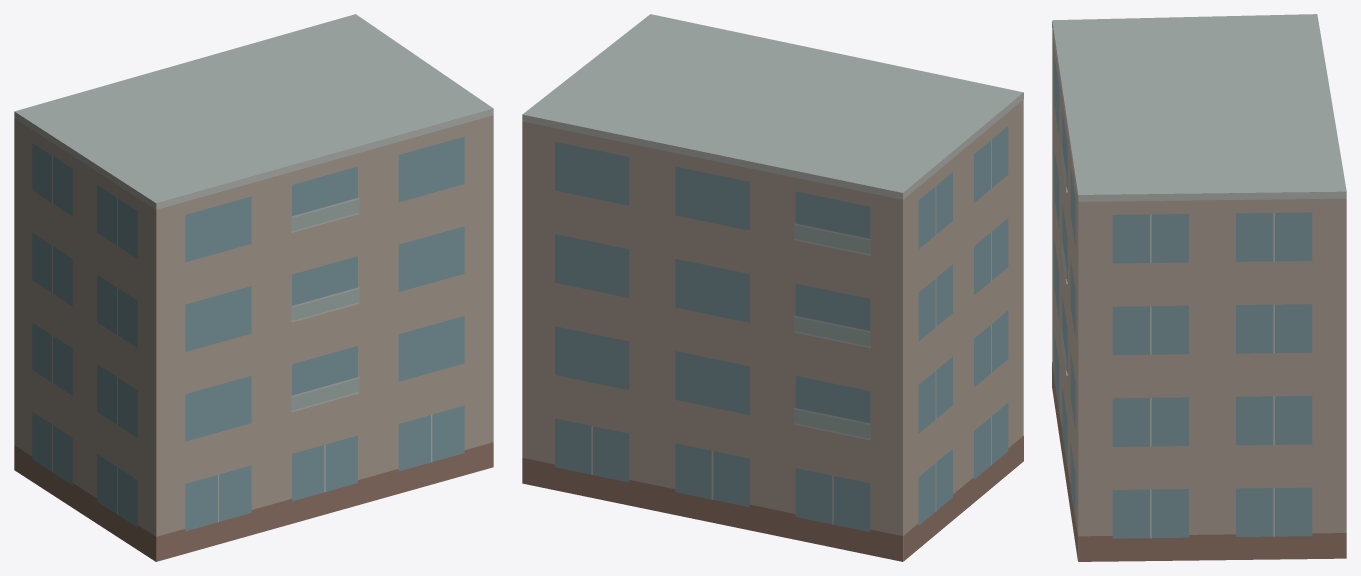
File: survey-upis-33010150.glb
The picture shows the model from 3 angles, left to right: view 1: azimuth 30°, elevation 25°; view 2: azimuth 150°, elevation 25°; view 3: azimuth 270°, elevation 25°; orthographic projection. The views are drawn at different scales.
Visible parts, largest first — view 1: survey-upis-33010150.tmp; view 2: survey-upis-33010150.tmp; view 3: survey-upis-33010150.tmp.
Boxes of the visible parts, left/top/right/bottom form: survey-upis-33010150.tmp: left=14, top=14, right=493, bottom=561; survey-upis-33010150.tmp: left=522, top=14, right=1023, bottom=561; survey-upis-33010150.tmp: left=1052, top=14, right=1346, bottom=561.
Bounding box in the file's own units: 13.76 × 13 × 9.47.
